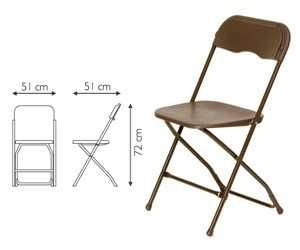obstacle: (146, 15, 289, 235)
